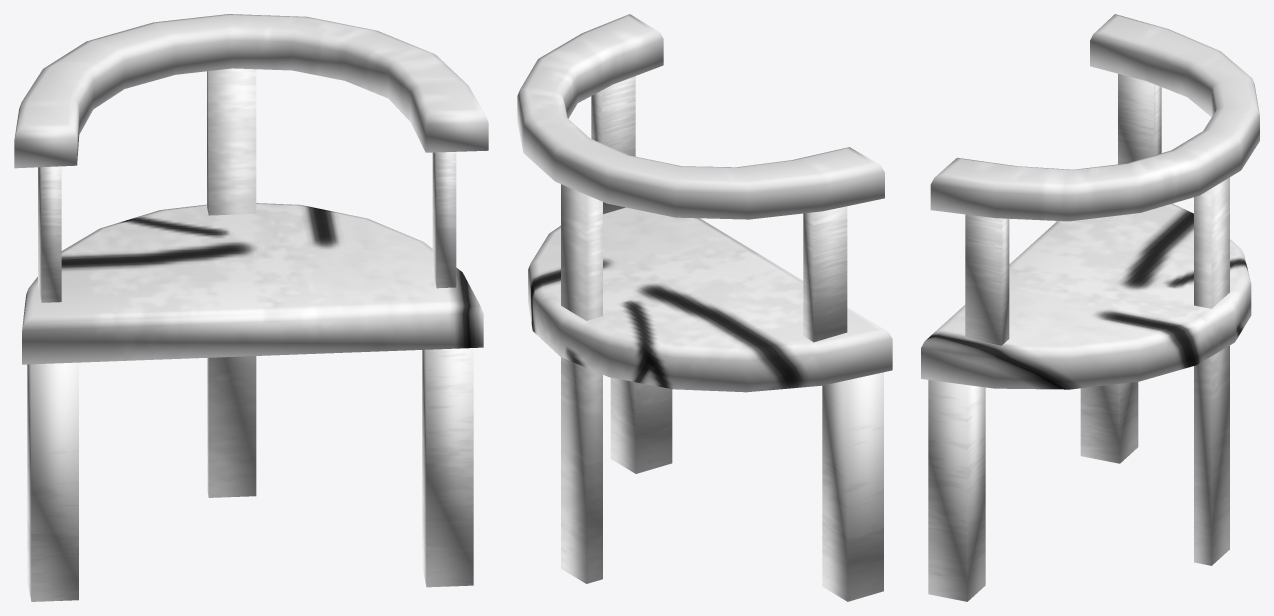
The model's file is RoundedChair(1).FBX.
The picture shows the model from 3 angles, left to right: view 1: azimuth 30°, elevation 25°; view 2: azimuth 150°, elevation 25°; view 3: azimuth 270°, elevation 25°; orthographic projection. The views are drawn at different scales.
Parts seen in each view (by area): view 1: RoundedChair_000; view 2: RoundedChair_000; view 3: RoundedChair_000.
Part boxes in pixels (box(x1,y1,x2,y2)): RoundedChair_000: box(14, 14, 488, 601); RoundedChair_000: box(517, 14, 892, 601); RoundedChair_000: box(921, 14, 1259, 601).
Size of the model in its own units: 27.43 by 30.66 by 22.15.
